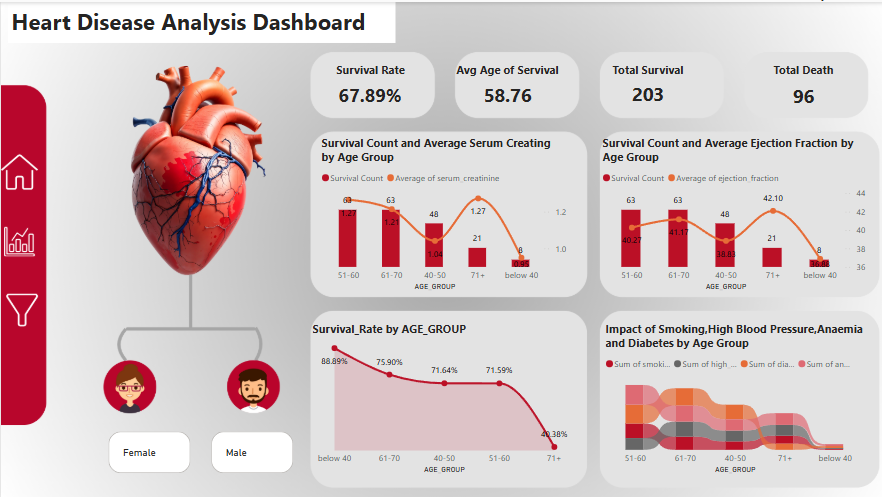

What the dashboard file says about the page in this screenshot:
{"tool":"powerbi","page":{"name":"Page 1","canvas":[1280,720],"ordinal":0},"visuals":[{"type":"textbox","box":[10.1,0,557.7,58.8],"z":0},{"type":"card","title":"Survival Rate","fields":{"Values":["heart_Disease_clinical_records_.Survival_Rate"]},"box":[456.5,86.4,151.2,76.3],"z":1000},{"type":"card","title":"Avg Age of Survival","fields":{"Values":["heart_Disease_clinical_records_.Average_Age_Survival"]},"box":[639.4,86.4,180,76.3],"z":2000},{"type":"card","title":"Total Survival","fields":{"Values":["heart_Disease_clinical_records_.Total_Surviour"]},"box":[848.2,86.4,167,73.4],"z":3000},{"type":"card","title":"Total Death","fields":{"Values":["heart_Disease_clinical_records_.Total_Death"]},"box":[1074.2,86.4,162.7,77.8],"z":4000},{"type":"lineClusteredColumnComboChart","title":"Survival Count and Average Serum Creating by Age Group","fields":{"Category":["heart_Disease_clinical_records_.AGE_GROUP"],"Y":["CountNonNull(heart_Disease_clinical_records_.DEATH_EVENT)"],"Y2":["Avg(heart_Disease_clinical_records_.serum_creatinine)"]},"box":[456.5,191.5,362.9,229],"z":6000},{"type":"lineClusteredColumnComboChart","title":"Survival Count and Average Ejection Fraction by Age Group","fields":{"Category":["heart_Disease_clinical_records_.AGE_GROUP"],"Y":["CountNonNull(heart_Disease_clinical_records_.DEATH_EVENT)"],"Y2":["Avg(heart_Disease_clinical_records_.ejection_fraction)"]},"box":[861.1,191.5,388.8,229],"z":7000},{"type":"lineChart","fields":{"Category":["heart_Disease_clinical_records_.AGE_GROUP"],"Y":["heart_Disease_clinical_records_.Survival_Rate"]},"box":[443.5,459.4,390.2,224.6],"z":8000},{"type":"ribbonChart","title":"Impact of Smoking,High Blood Pressure,Anaemia and Diabetes by Age Group","fields":{"Category":["heart_Disease_clinical_records_.AGE_GROUP"],"Y":["Sum(heart_Disease_clinical_records_.smoking)","Sum(heart_Disease_clinical_records_.high_blood_pressure)","Sum(heart_Disease_clinical_records_.diabetes)","Sum(heart_Disease_clinical_records_.anaemia)"]},"box":[865.4,459.4,384.5,224.6],"z":9000},{"type":"advancedSlicerVisual","fields":{"Values":["heart_Disease_clinical_records_.Gender"]},"box":[149.3,613.2,276.6,70.2],"z":10000}]}

Visuals, with their boxes in screenshot pixels (x1, y1, x2, y2), scaled from the page's 1280x720 canvas onto the 882x497 screenshot:
textbox: 7/0/391/41
"Survival Rate" card: 315/60/419/112
"Avg Age of Survival" card: 441/60/565/112
"Total Survival" card: 584/60/700/110
"Total Death" card: 740/60/852/113
"Survival Count and Average Serum Creating by Age Group" lineClusteredColumnComboChart: 315/132/565/290
"Survival Count and Average Ejection Fraction by Age Group" lineClusteredColumnComboChart: 593/132/861/290
lineChart - heart_Disease_clinical_records_.AGE_GROUP x heart_Disease_clinical_records_.Survival_Rate: 306/317/574/472
"Impact of Smoking,High Blood Pressure,Anaemia and Diabetes by Age Group" ribbonChart: 596/317/861/472
advancedSlicerVisual - heart_Disease_clinical_records_.Gender: 103/423/293/472
